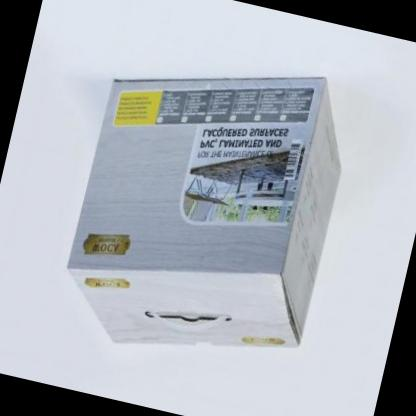box: (46, 20, 372, 400)
